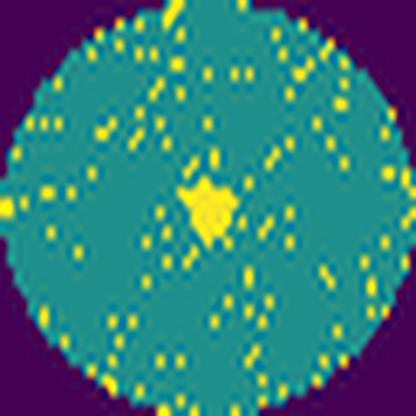Center: (176, 177, 242, 250)
